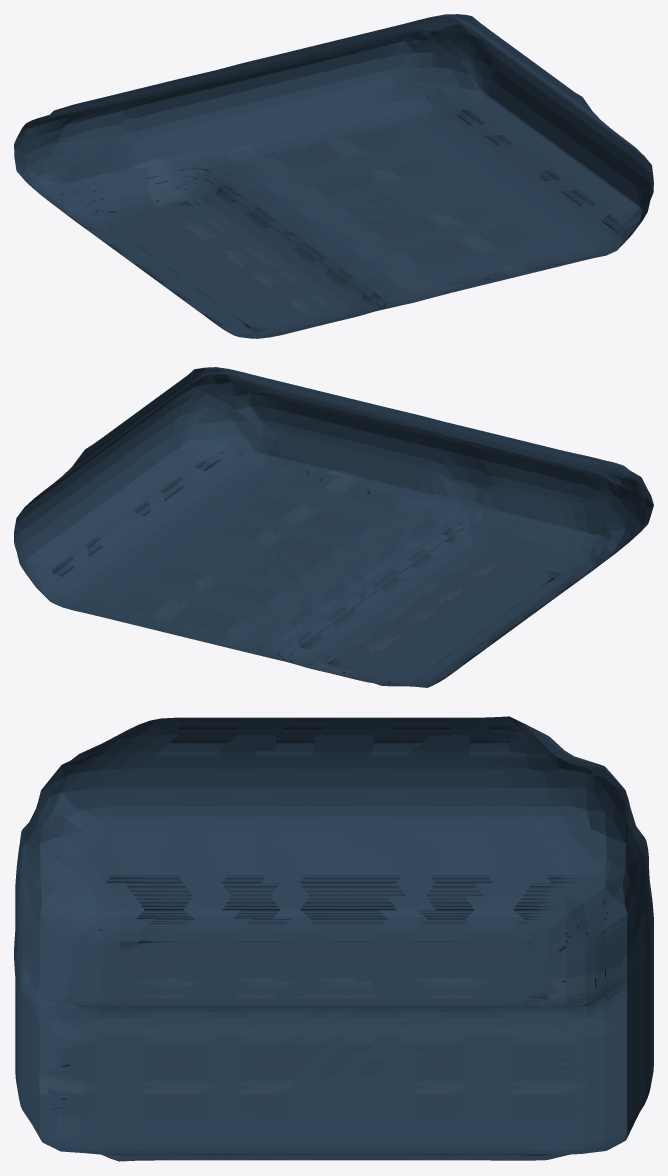
3 views of the same model, one above another, from view 1: azimuth 30°, elevation 25°; view 2: azimuth 150°, elevation 25°; view 3: azimuth 270°, elevation 25° (orthographic). The views are drawn at different scales.
Visible parts, largest first — view 1: model; view 2: model; view 3: model.
Boxes of the visible parts, x1,y1,x2,y2 form: model: (14,14,653,338); model: (14,367,653,687); model: (14,716,653,1161).
Size of the model in its own units: 1 by 0.2853 by 0.8363.
1 material, 1 textured.
